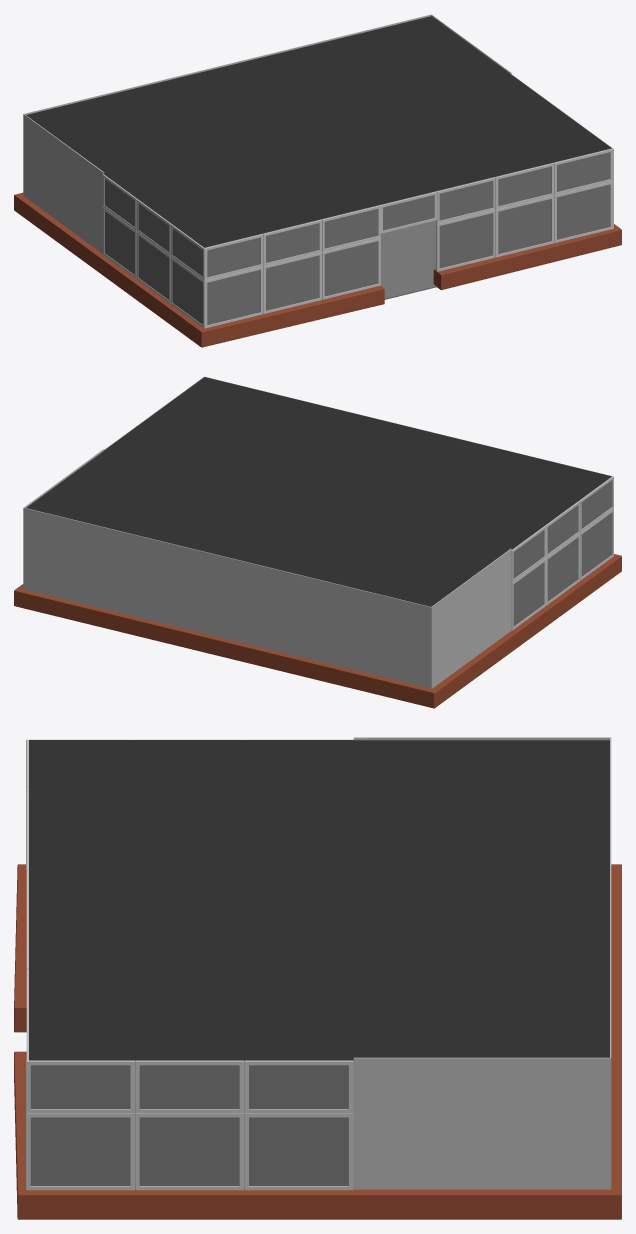
Rendered from SM_conveiniencestore_building_preset.fbx.
The picture shows the model from 3 angles, top to bottom: view 1: azimuth 30°, elevation 25°; view 2: azimuth 150°, elevation 25°; view 3: azimuth 270°, elevation 25°; orthographic projection. The views are drawn at different scales.
Parts seen in each view (by area): view 1: Object32373; view 2: Object32373; view 3: Object32373.
Part boxes in pixels (x1,y1,x2,y2): Object32373: (14, 14, 621, 347); Object32373: (14, 376, 621, 708); Object32373: (14, 737, 621, 1219).
Bounding box in the file's own units: 1613 × 358 × 1254.
